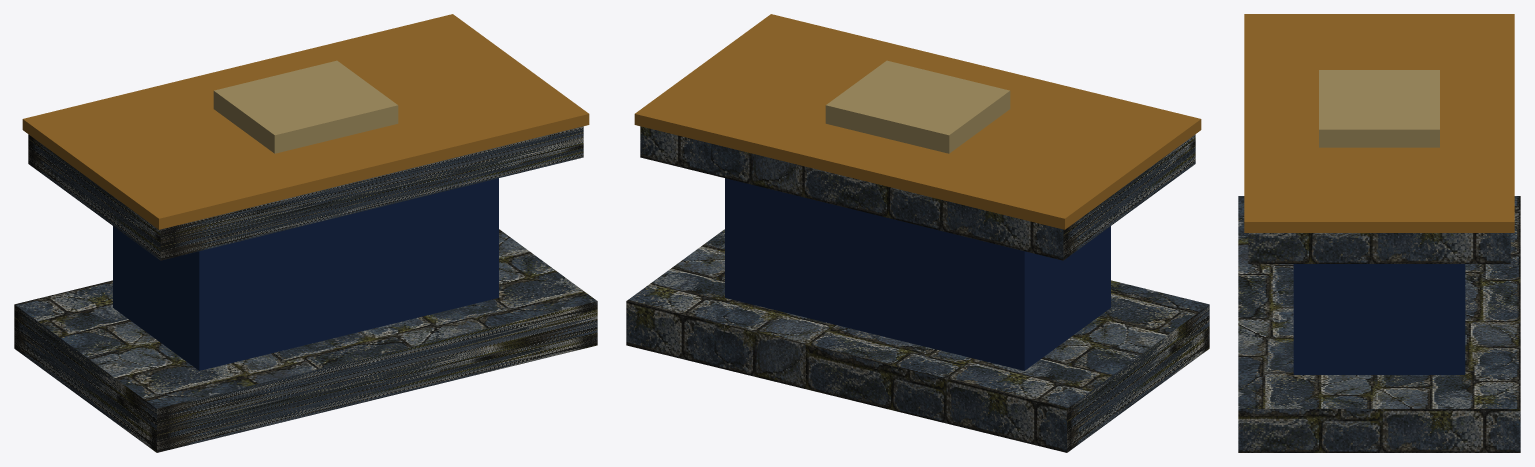
File: D01_Altar_Exclusividade.obj
3 renders of one model, left to right at view 1: azimuth 30°, elevation 25°; view 2: azimuth 150°, elevation 25°; view 3: azimuth 270°, elevation 25°, orthographic.
Parts seen in each view (by area): view 1: D01_Altar_Exclusividade; view 2: D01_Altar_Exclusividade; view 3: D01_Altar_Exclusividade.
Part boxes in pixels (x1=…): D01_Altar_Exclusividade: x1=14, y1=14, x2=597, y2=452; D01_Altar_Exclusividade: x1=626, y1=14, x2=1209, y2=452; D01_Altar_Exclusividade: x1=1238, y1=14, x2=1520, y2=452.
Bounding box in the file's own units: 2.5 × 1.35 × 1.4.
Materials: 4 (1 with a texture image).
